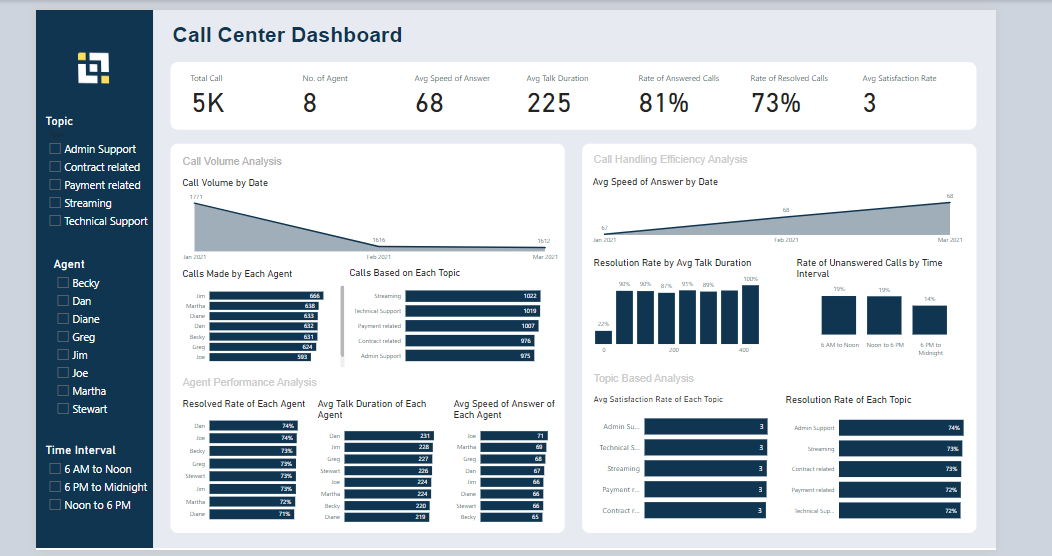

This screenshot's page, from the dashboard's own definition file:
{"tool":"powerbi","page":{"name":"Dashboard","canvas":[1920,1080],"ordinal":0},"visuals":[{"type":"areaChart","title":"Call Volume by Date","fields":{"Category":["Call Center.Date.Variation.Date Hierarchy.Year","Call Center.Date.Variation.Date Hierarchy.Quarter","Call Center.Date.Variation.Date Hierarchy.Month","Call Center.Date.Variation.Date Hierarchy.Day"],"Y":["Call Center.Call Id"]},"box":[288.4,334,761.2,177.8],"z":0},{"type":"barChart","title":"Calls Based on Each Topic","fields":{"Category":["Call Center.Topic"],"Y":["Call Center.Call Id"]},"box":[622.4,514,427.2,206],"z":1000},{"type":"barChart","title":"Calls Made by Each Agent","fields":{"Category":["Call Center.Agent"],"Y":["Call Center.Call Id"]},"box":[288.4,516.1,334,203.9],"z":2000},{"type":"barChart","title":"Resolution Rate of Each Topic","fields":{"Category":["Call Center.Topic"],"Y":["Measures Table.% of Resolved Calls"]},"box":[1493.9,767.3,395.9,271.4],"z":3000},{"type":"barChart","title":"Avg Satisfaction Rate of Each Topic","fields":{"Category":["Call Center.Topic"],"Y":["Measures Table.Avg Satisfaction Rate"]},"box":[1110.2,767.3,375.5,271.4],"z":4000},{"type":"barChart","title":"Avg Speed of Answer of Each Agent","fields":{"Category":["Call Center.Agent"],"Y":["Measures Table.Avg Speed of Answer"]},"box":[830.6,776.4,219,262.4],"z":5000},{"type":"barChart","title":"Avg Talk Duration of Each Agent","fields":{"Category":["Call Center.Agent"],"Y":["Measures Table.Avg Talk Duration"]},"box":[557.3,776.4,273.3,262.4],"z":6000},{"type":"barChart","title":"Resolved Rate of Each Agent","fields":{"Category":["Call Center.Agent"],"Y":["Measures Table.% of Resolved Calls"]},"box":[288.4,776.4,268.9,258.1],"z":7000},{"type":"areaChart","title":"Avg Speed of Answer by Date","fields":{"Category":["Call Center.Date.Variation.Date Hierarchy.Year","Call Center.Date.Variation.Date Hierarchy.Quarter","Call Center.Date.Variation.Date Hierarchy.Month","Call Center.Date.Variation.Date Hierarchy.Day"],"Y":["Measures Table.Avg Speed of Answer"]},"box":[1104,336,752,160],"z":8000},{"type":"columnChart","title":"Resolution Rate by Avg Talk Duration","fields":{"Category":["Call Center.AvgTalkDuration (Sec) (bins)"],"Y":["Measures Table.% of Resolved Calls"]},"box":[1110.2,493.9,400,204.1],"z":9000},{"type":"columnChart","title":"Rate of Unanswered Calls by Time Interval","fields":{"Category":["Call Center.Time Interval"],"Y":["Call Center.% of Unanswered Calls"]},"box":[1516.3,493.9,351,206.1],"z":10000},{"type":"cardVisual","fields":{"Data":["Measures Table.Total Call","Call Center.Agent","Measures Table.Avg Speed of Answer","Measures Table.Avg Talk Duration","Measures Table.% of Answered Calls","Measures Table.% of Resolved Calls","Measures Table.Avg Satisfaction Rate"]},"box":[292.8,108.4,1568,123.6],"z":11000},{"type":"slicer","title":"Agent","fields":{"Values":["Call Center.Agent"]},"box":[30.4,494.5,182.2,334],"z":12000},{"type":"slicer","title":"Topic","fields":{"Values":["Call Center.Topic"]},"box":[13,208.2,216.9,249.4],"z":13000},{"type":"slicer","title":"Time Interval","fields":{"Values":["Call Center.Time Interval"]},"box":[13,865.3,216.9,173.5],"z":14000},{"type":"image","box":[0,0,229.9,232],"z":15000},{"type":"textbox","box":[268.9,19.5,568.2,88.9],"z":16000},{"type":"textbox","box":[288.4,286.3,232,47.7],"z":17000},{"type":"textbox","box":[288.2,727.3,300,40.9],"z":18000},{"type":"textbox","box":[1110.2,720.4,300,46.9],"z":19000},{"type":"textbox","box":[1110.2,281.6,406.1,55.1],"z":20000}]}

Visuals, with their boxes on the page's 1920x1080 design canvas (x1, y1, x2, y2). These are canvas units, not pixel positions in the 1052x556 screenshot, which may show the page scaled, cropped or inside an application window:
"Call Volume by Date" areaChart: bbox=[288, 334, 1050, 512]
"Calls Based on Each Topic" barChart: bbox=[622, 514, 1050, 720]
"Calls Made by Each Agent" barChart: bbox=[288, 516, 622, 720]
"Resolution Rate of Each Topic" barChart: bbox=[1494, 767, 1890, 1039]
"Avg Satisfaction Rate of Each Topic" barChart: bbox=[1110, 767, 1486, 1039]
"Avg Speed of Answer of Each Agent" barChart: bbox=[831, 776, 1050, 1039]
"Avg Talk Duration of Each Agent" barChart: bbox=[557, 776, 831, 1039]
"Resolved Rate of Each Agent" barChart: bbox=[288, 776, 557, 1034]
"Avg Speed of Answer by Date" areaChart: bbox=[1104, 336, 1856, 496]
"Resolution Rate by Avg Talk Duration" columnChart: bbox=[1110, 494, 1510, 698]
"Rate of Unanswered Calls by Time Interval" columnChart: bbox=[1516, 494, 1867, 700]
cardVisual - Measures Table.Total Call x Call Center.Agent: bbox=[293, 108, 1861, 232]
"Agent" slicer: bbox=[30, 494, 213, 828]
"Topic" slicer: bbox=[13, 208, 230, 458]
"Time Interval" slicer: bbox=[13, 865, 230, 1039]
image: bbox=[0, 0, 230, 232]
textbox: bbox=[269, 20, 837, 108]
textbox: bbox=[288, 286, 520, 334]
textbox: bbox=[288, 727, 588, 768]
textbox: bbox=[1110, 720, 1410, 767]
textbox: bbox=[1110, 282, 1516, 337]
